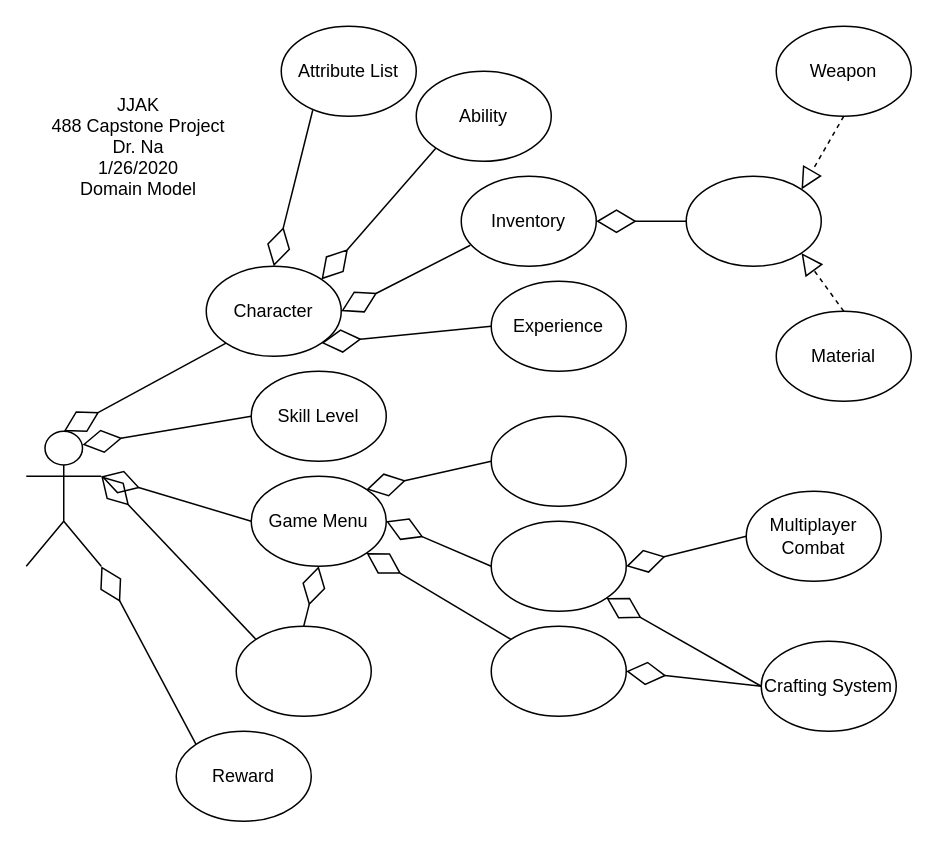
Some shapes in this 938 by 848 pixel diagram are drawn without their labels. The centre of each missing label's shape, as x and y in pixels:
"Character Creator" belongs at (x=558, y=460).
"Item" belongs at (x=753, y=220).
"Matchmaking System" belongs at (x=558, y=565).
"Player" belongs at (x=63, y=498).
"Statistics" belongs at (x=303, y=670).
"Tutorial" belongs at (x=558, y=670).
